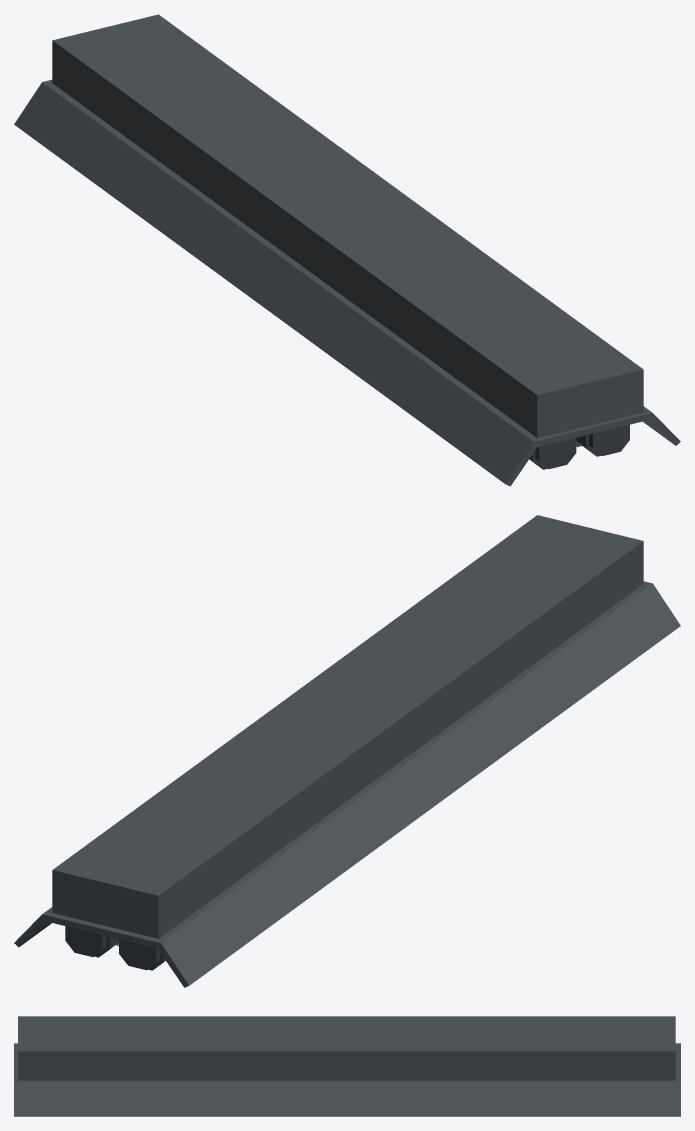
File: SM_Prop_LightsFlat_02.fbx
3 renders of one model, top to bottom at view 1: azimuth 30°, elevation 25°; view 2: azimuth 150°, elevation 25°; view 3: azimuth 270°, elevation 25°, orthographic. The views are drawn at different scales.
Parts seen in each view (by area): view 1: SM_Prop_LightsFlat_02; view 2: SM_Prop_LightsFlat_02; view 3: SM_Prop_LightsFlat_02.
Boxes of the visible parts, box(x1,y1,x2,y2) form: SM_Prop_LightsFlat_02: box(14, 14, 680, 486); SM_Prop_LightsFlat_02: box(14, 515, 680, 987); SM_Prop_LightsFlat_02: box(14, 1016, 680, 1116).
Size of the model in its own units: 50.73 by 24.67 by 246.
